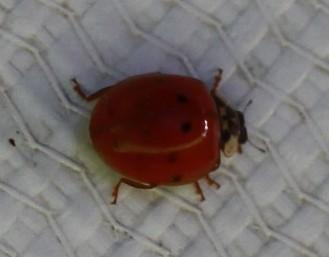ladybug: (70, 67, 269, 206)
